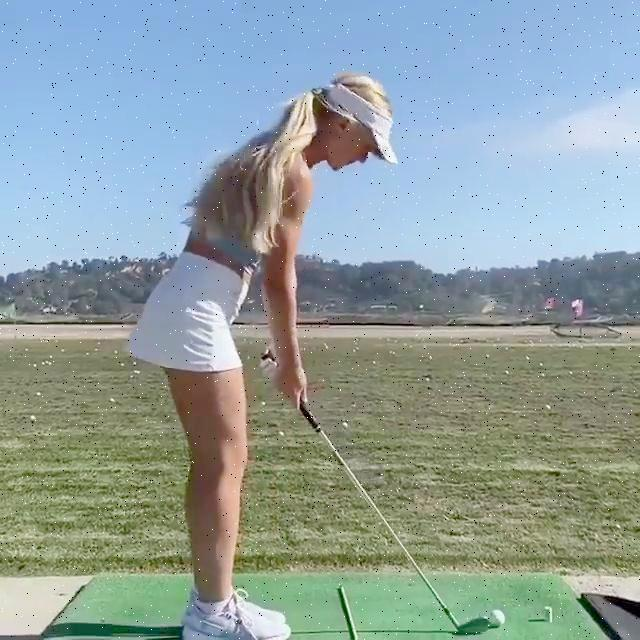ClubHandle: (262, 349, 490, 634)
ClubHead: (460, 615, 490, 634)
GolfBall: (490, 610, 505, 626)
